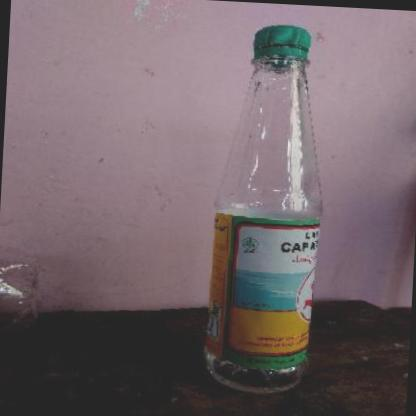plastic_bottles: (199, 18, 334, 398)
